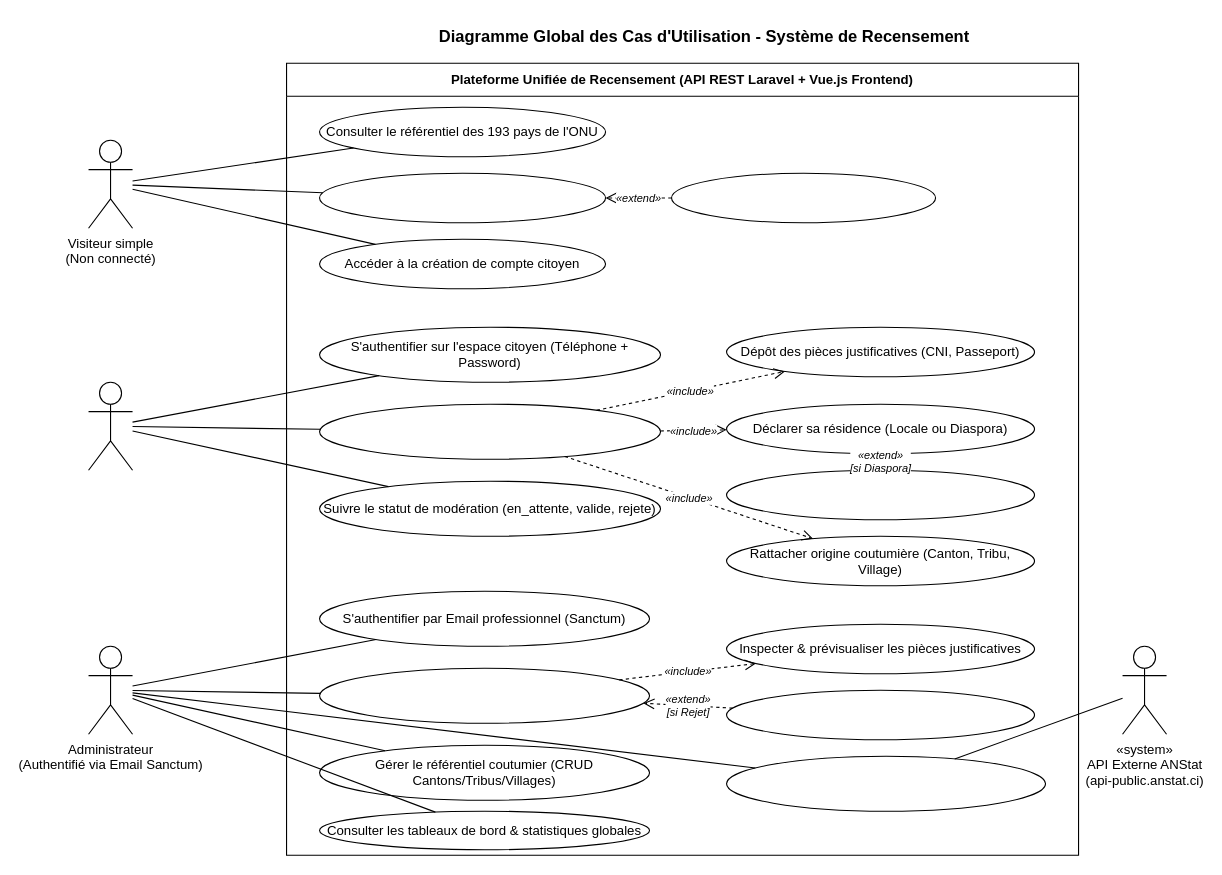
The diagram is 1222 pixels wide and 875 high, and some of its shapes have lost their labels. The centre of each missing label's shape, as x and y in pixels:
Explorer le découpage ANStat & coutumier: pixel 462 197
Importer le découpage ANStat via CLI (artisan import:anstat): pixel 885 783
Modérer les fiches de recensement (Valider / Rejeter): pixel 484 695
Rechercher une localité ou entité: pixel 803 197
Remplir & mettre à jour sa fiche individuelle: pixel 489 431
Renseigner Consulat & Contact Référent: pixel 880 494
Ressortissant / Citoyen (Authentifié via Téléphone): pixel 110 425
Saisir un motif d'explication obligatoire: pixel 880 714
